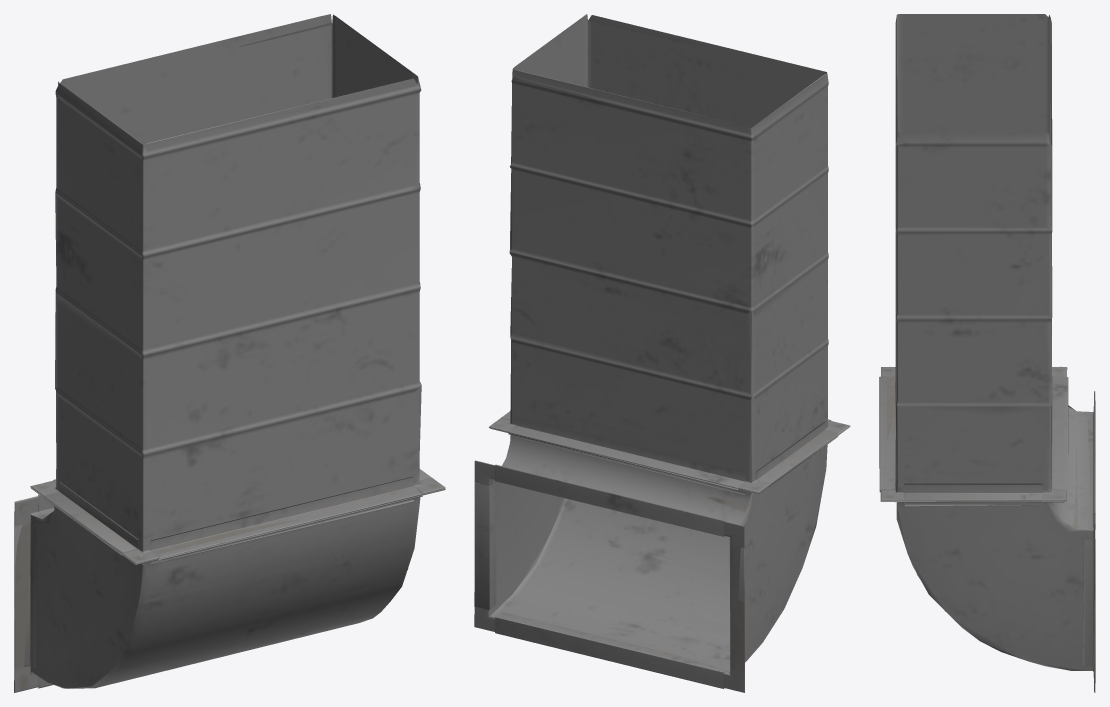
Rendered from SM_Ventilation_Stack03.fbx.
3 renders of one model, left to right at view 1: azimuth 30°, elevation 25°; view 2: azimuth 150°, elevation 25°; view 3: azimuth 270°, elevation 25°, orthographic. The views are drawn at different scales.
Parts seen in each view (by area): view 1: SM_Ventilation_Stack03_LOD0; view 2: SM_Ventilation_Stack03_LOD0; view 3: SM_Ventilation_Stack03_LOD0.
Part boxes in pixels (x1,y1,x2,y2): SM_Ventilation_Stack03_LOD0: (14,14,445,692); SM_Ventilation_Stack03_LOD0: (474,14,850,692); SM_Ventilation_Stack03_LOD0: (879,14,1095,692).
Size of the model in its own units: 81.81 by 55.9 by 158.
